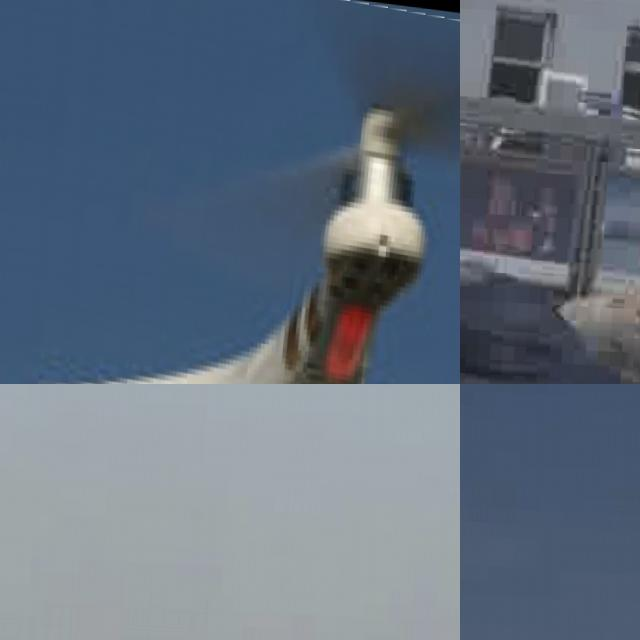drone: (0, 0, 460, 384)
